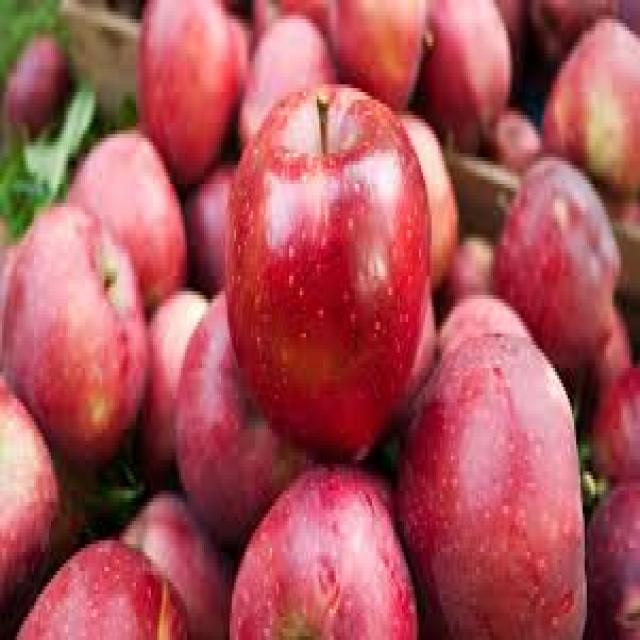apple: (226, 61, 436, 462)
